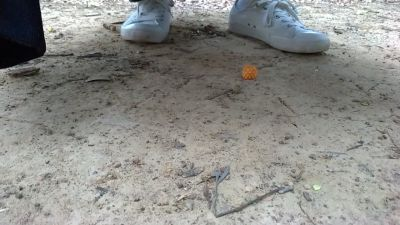eggs: (239, 56, 260, 83)
